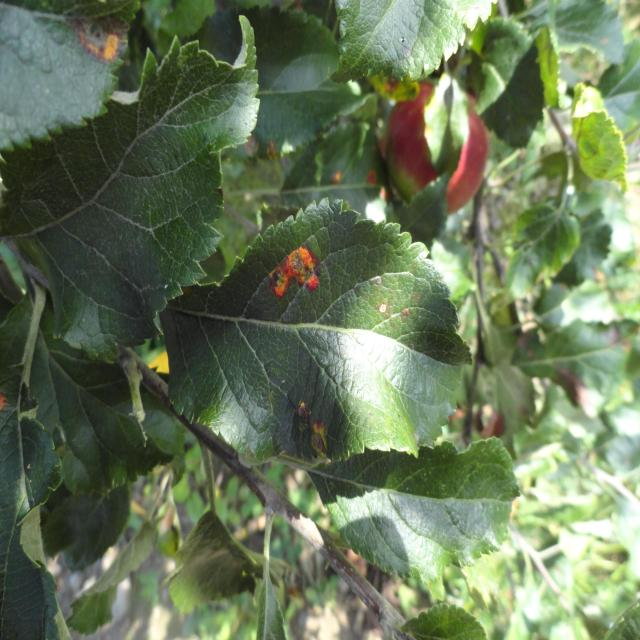Rust: (271, 237, 327, 320)
